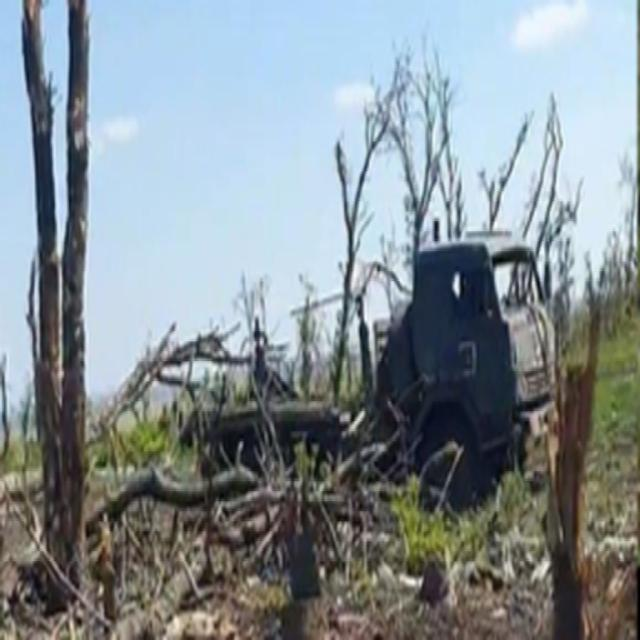TRUCK: (188, 222, 558, 507)
